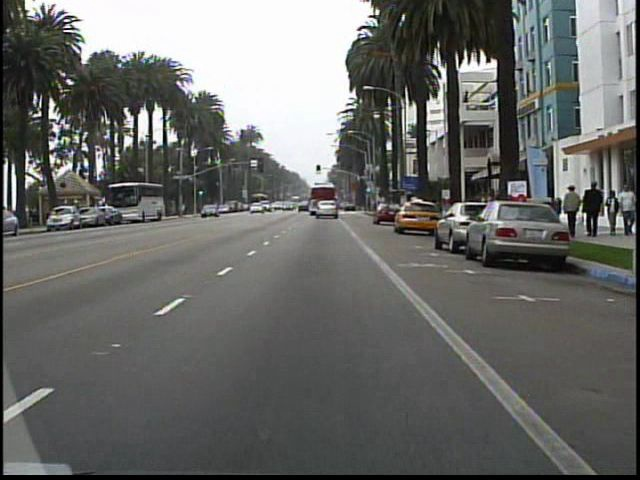person: (582, 176, 604, 240), (617, 183, 637, 236), (564, 183, 582, 239), (604, 186, 621, 238)
